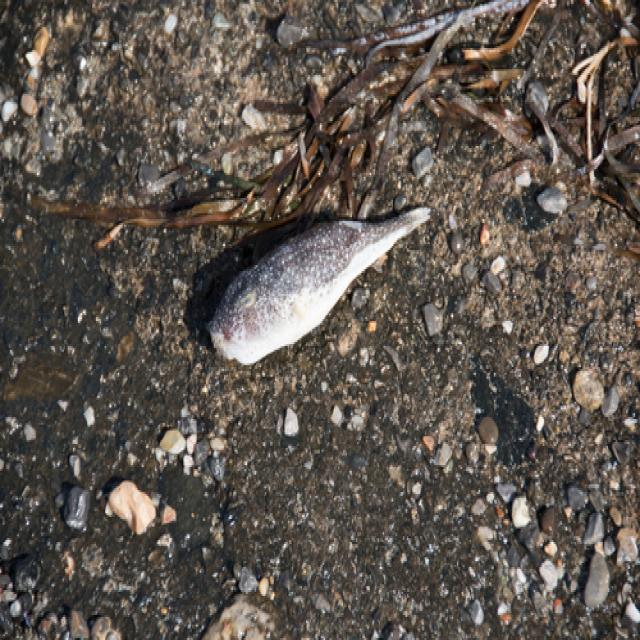Balik: (208, 208, 430, 365)
